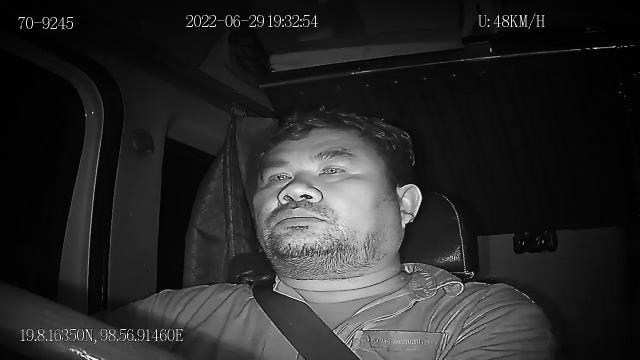SafeDriving: (260, 162, 296, 190), (314, 155, 354, 180)
Seatbelt: (250, 276, 362, 360)
